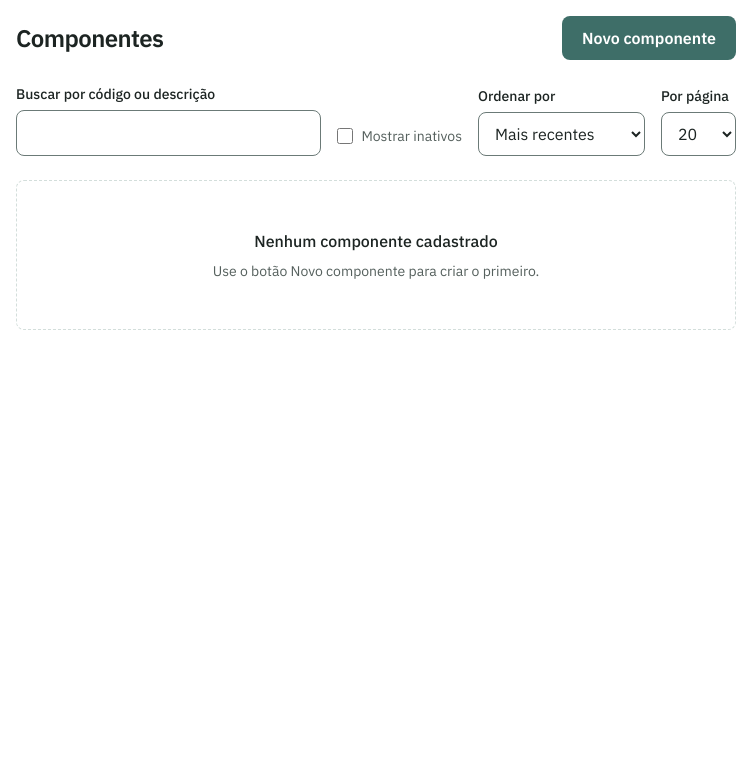
Scenario: ComponentesPage › oferece reativar quando o codigo colide com um componente inativo
Click the button "Novo componente" at (649, 38), box x1=562 y1=16 x2=736 y2=60
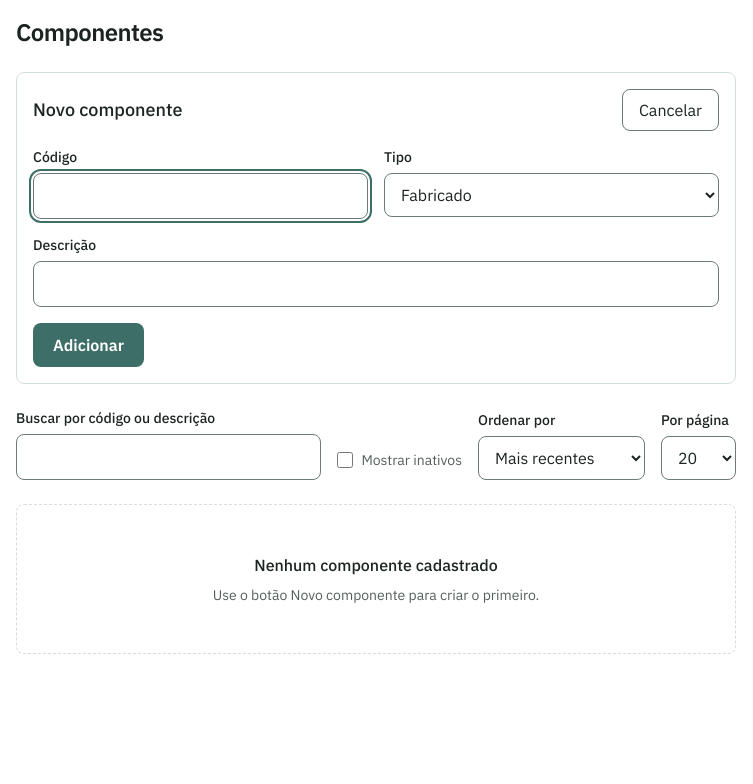
Type "SUP-001" into the field labelled "Código" at (200, 196), box x1=33 y1=173 x2=368 y2=219
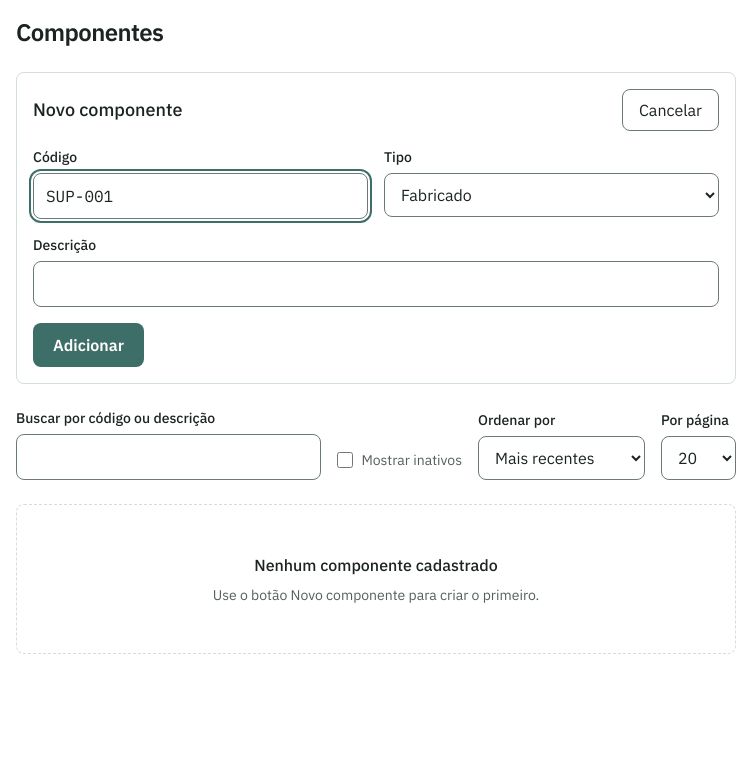
Type "Suporte" into the field labelled "Descrição" at (376, 284), box x1=33 y1=261 x2=719 y2=307
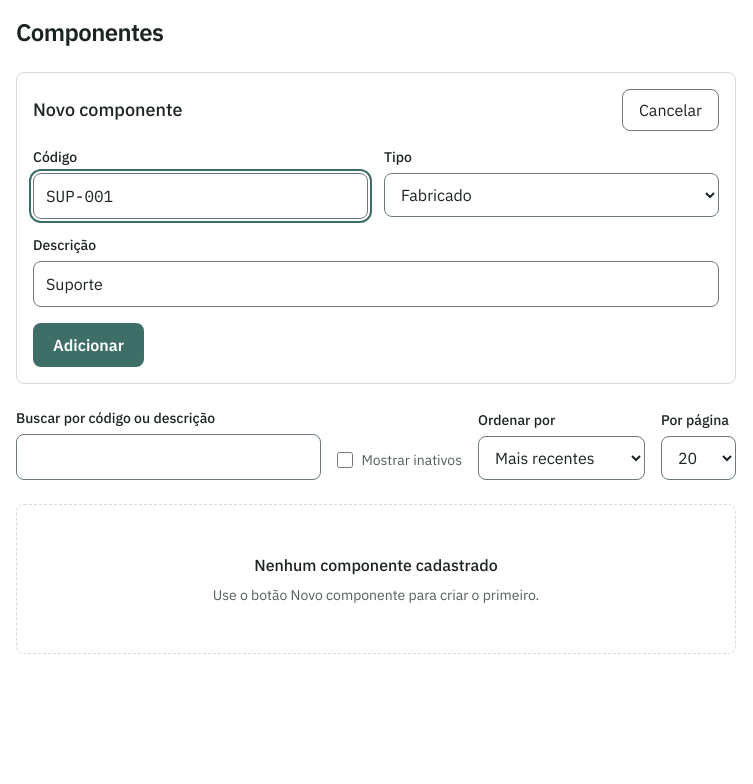
Click the button "Adicionar" at (88, 345), box x1=33 y1=323 x2=144 y2=367
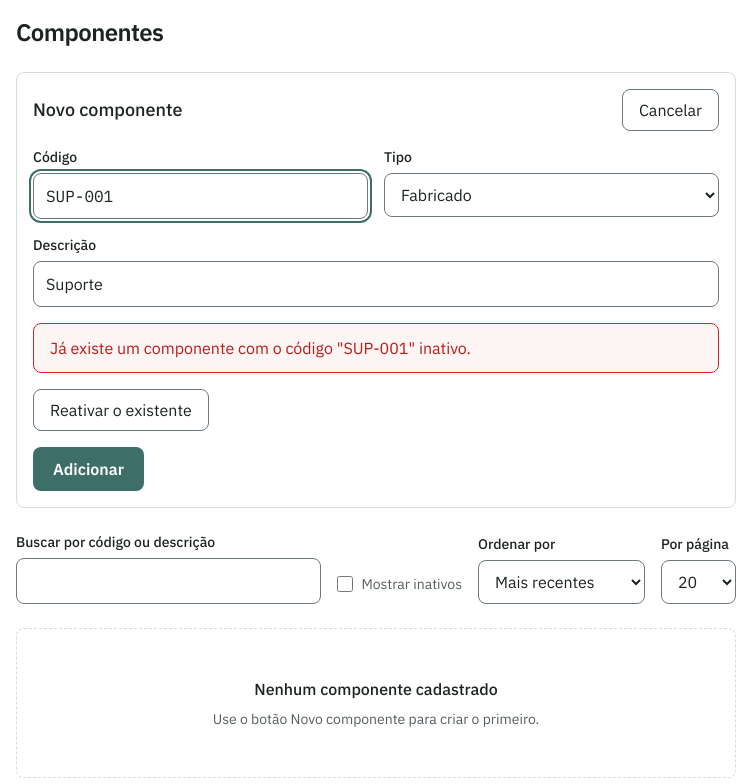
Result: the button "Reativar o existente" is shown at x1=33 y1=389 x2=209 y2=431
Result: the text "Já existe um componente com o código \"SUP-001\" inativo." is shown at x1=33 y1=323 x2=719 y2=373
